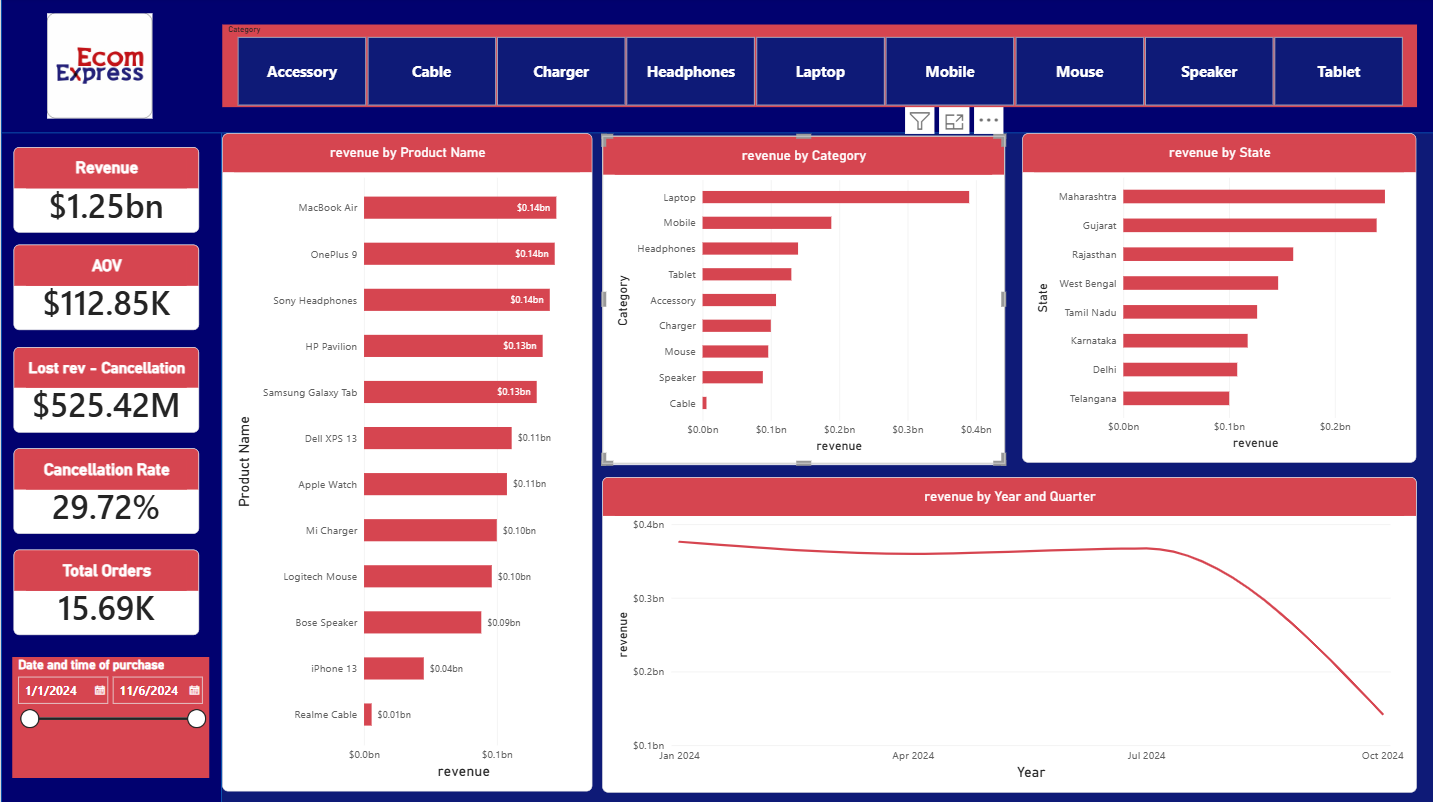

The dashboard page shown, as its layout file describes it:
{"tool":"powerbi","page":{"name":"E-commerce Sales","canvas":[1920,1080],"ordinal":0},"visuals":[{"type":"shape","box":[0,162.9,295,917.5],"z":1},{"type":"shape","box":[0,0,1920,182],"z":501},{"type":"image","box":[0,21.7,264.2,141.2],"z":1502},{"type":"barChart","title":"revenue by Category","fields":{"Category":["products.Category"],"Y":["table.revenue"]},"box":[803.5,184.6,537.5,439.7],"z":1504},{"type":"lineChart","title":"revenue by Year and Quarter","fields":{"Category":["orders.Date and time of purchase.Variation.Date Hierarchy.Year","orders.Date and time of purchase.Variation.Date Hierarchy.Quarter","orders.Date and time of purchase.Variation.Date Hierarchy.Month","orders.Date and time of purchase.Variation.Date Hierarchy.Day"],"Y":["table.revenue"]},"box":[803.5,640.6,1087.6,421.7],"z":1505},{"type":"barChart","title":"revenue by State","fields":{"Category":["customers.State"],"Y":["table.revenue"]},"box":[1364.5,182.8,526.6,439.7],"z":1506},{"type":"barChart","title":"revenue by Product Name ","fields":{"Category":["products.Product Name"],"Y":["table.revenue"]},"box":[295,182.8,494,879.5],"z":1507},{"type":"slicer","fields":{"Values":["products.Category"]},"box":[295,36.2,1596.1,110.4],"z":1508},{"type":"card","title":"Revenue","fields":{"Values":["table.revenue"]},"box":[16.3,200.9,247.9,114],"z":1509},{"type":"card","title":"AOV","fields":{"Values":["table.AOV"]},"box":[16.3,331.2,247.9,114],"z":1510},{"type":"card","title":"Cancellation Rate","fields":{"Values":["table.cancellation rate"]},"box":[16.3,602.6,247.9,114],"z":1511},{"type":"card","title":"Lost rev - Cancellation","fields":{"Values":["table.lost_rev_cancellation"]},"box":[16.3,466.9,247.9,114],"z":1512},{"type":"card","title":"Total Orders","fields":{"Values":["CountNonNull(orders.OrderID)"]},"box":[16.3,738.3,247.9,114],"z":1513},{"type":"slicer","fields":{"Values":["orders.Date and time of purchase"]},"box":[14.5,881.3,262.4,161.1],"z":1514}]}

Visuals, with their boxes in screenshot pixels (x1, y1, x2, y2), scaled from the page's 1920x1080 canvas onto the 1433x802 screenshot:
shape: (left=0, top=121, right=220, bottom=801)
shape: (left=0, top=0, right=1432, bottom=135)
image: (left=0, top=16, right=197, bottom=121)
"revenue by Category" barChart: (left=600, top=137, right=1001, bottom=464)
"revenue by Year and Quarter" lineChart: (left=600, top=476, right=1411, bottom=789)
"revenue by State" barChart: (left=1018, top=136, right=1411, bottom=462)
"revenue by Product Name " barChart: (left=220, top=136, right=589, bottom=789)
slicer - products.Category: (left=220, top=27, right=1411, bottom=109)
"Revenue" card: (left=12, top=149, right=197, bottom=234)
"AOV" card: (left=12, top=246, right=197, bottom=331)
"Cancellation Rate" card: (left=12, top=447, right=197, bottom=532)
"Lost rev - Cancellation" card: (left=12, top=347, right=197, bottom=431)
"Total Orders" card: (left=12, top=548, right=197, bottom=633)
slicer - orders.Date and time of purchase: (left=11, top=654, right=207, bottom=774)
